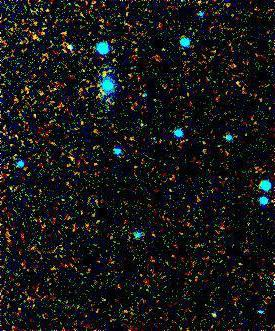star: (91, 59, 121, 89)
